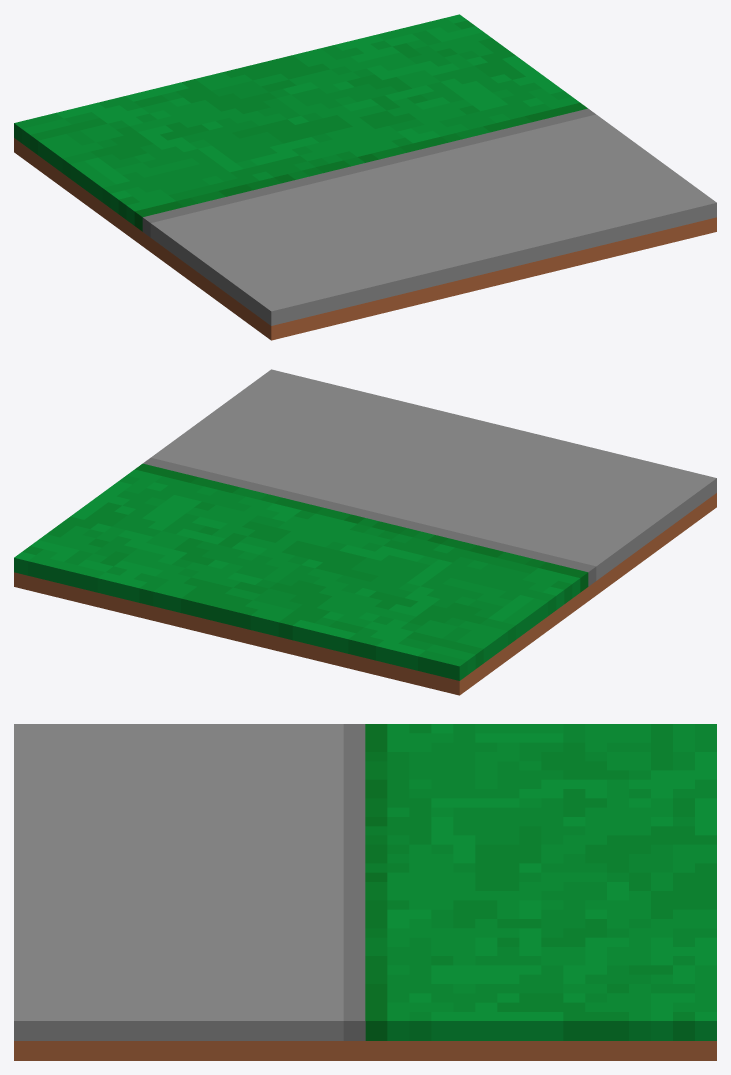
File: forest-city-side-1.gltf
3 renders of one model, top to bottom at view 1: azimuth 30°, elevation 25°; view 2: azimuth 150°, elevation 25°; view 3: azimuth 270°, elevation 25°, orthographic. The views are drawn at different scales.
Parts seen in each view (by area): view 1: forest-city-side-1; view 2: forest-city-side-1; view 3: forest-city-side-1.
Part boxes in pixels (<box>): forest-city-side-1: <box>14,14,716,340</box>; forest-city-side-1: <box>14,369,716,695</box>; forest-city-side-1: <box>14,724,716,1060</box>.
Bounding box in the file's own units: 3.2 × 0.2 × 3.2.
1 material, 1 textured.
